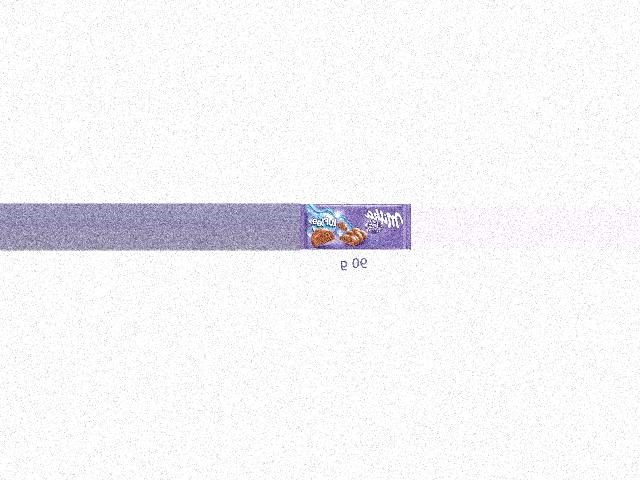chocolate: (299, 203, 408, 249)
